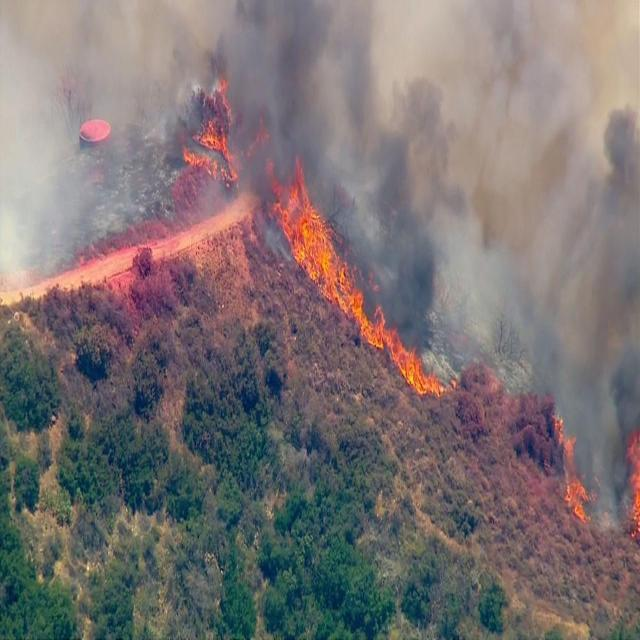Fire: (272, 157, 448, 401), (547, 411, 640, 544), (175, 76, 268, 192)
Smoke: (203, 18, 637, 470), (2, 35, 172, 304)
